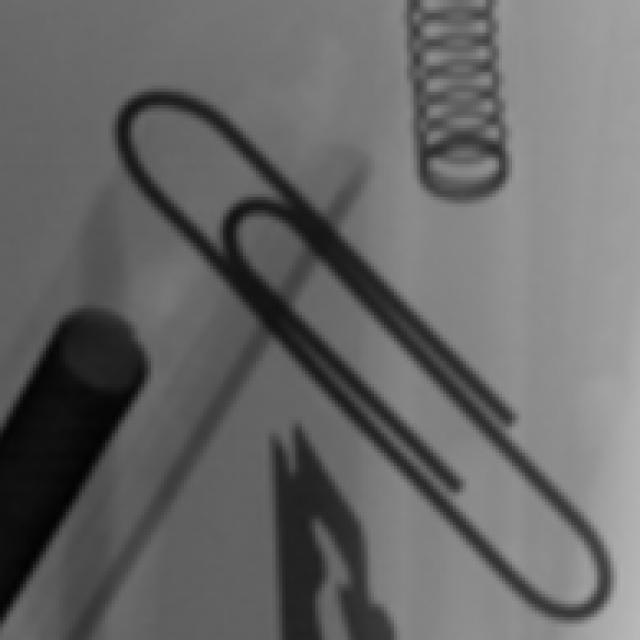BLADE: (272, 428, 386, 640)
GUN: (1, 332, 149, 640)
